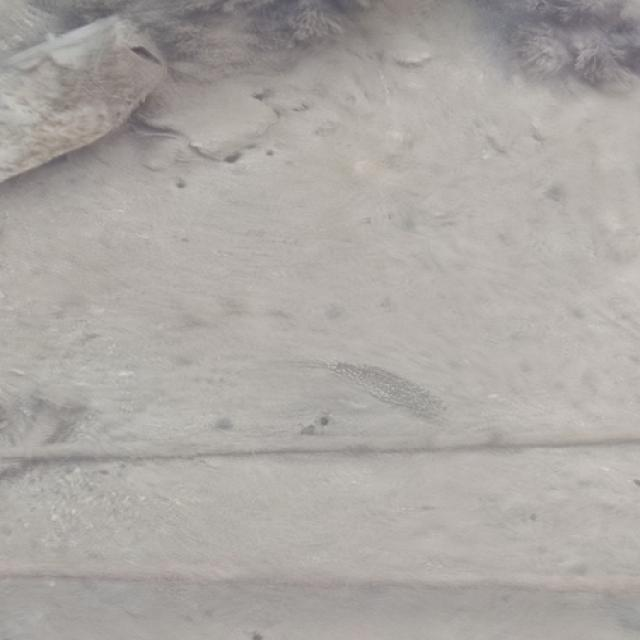Balik: (323, 362, 440, 417)
